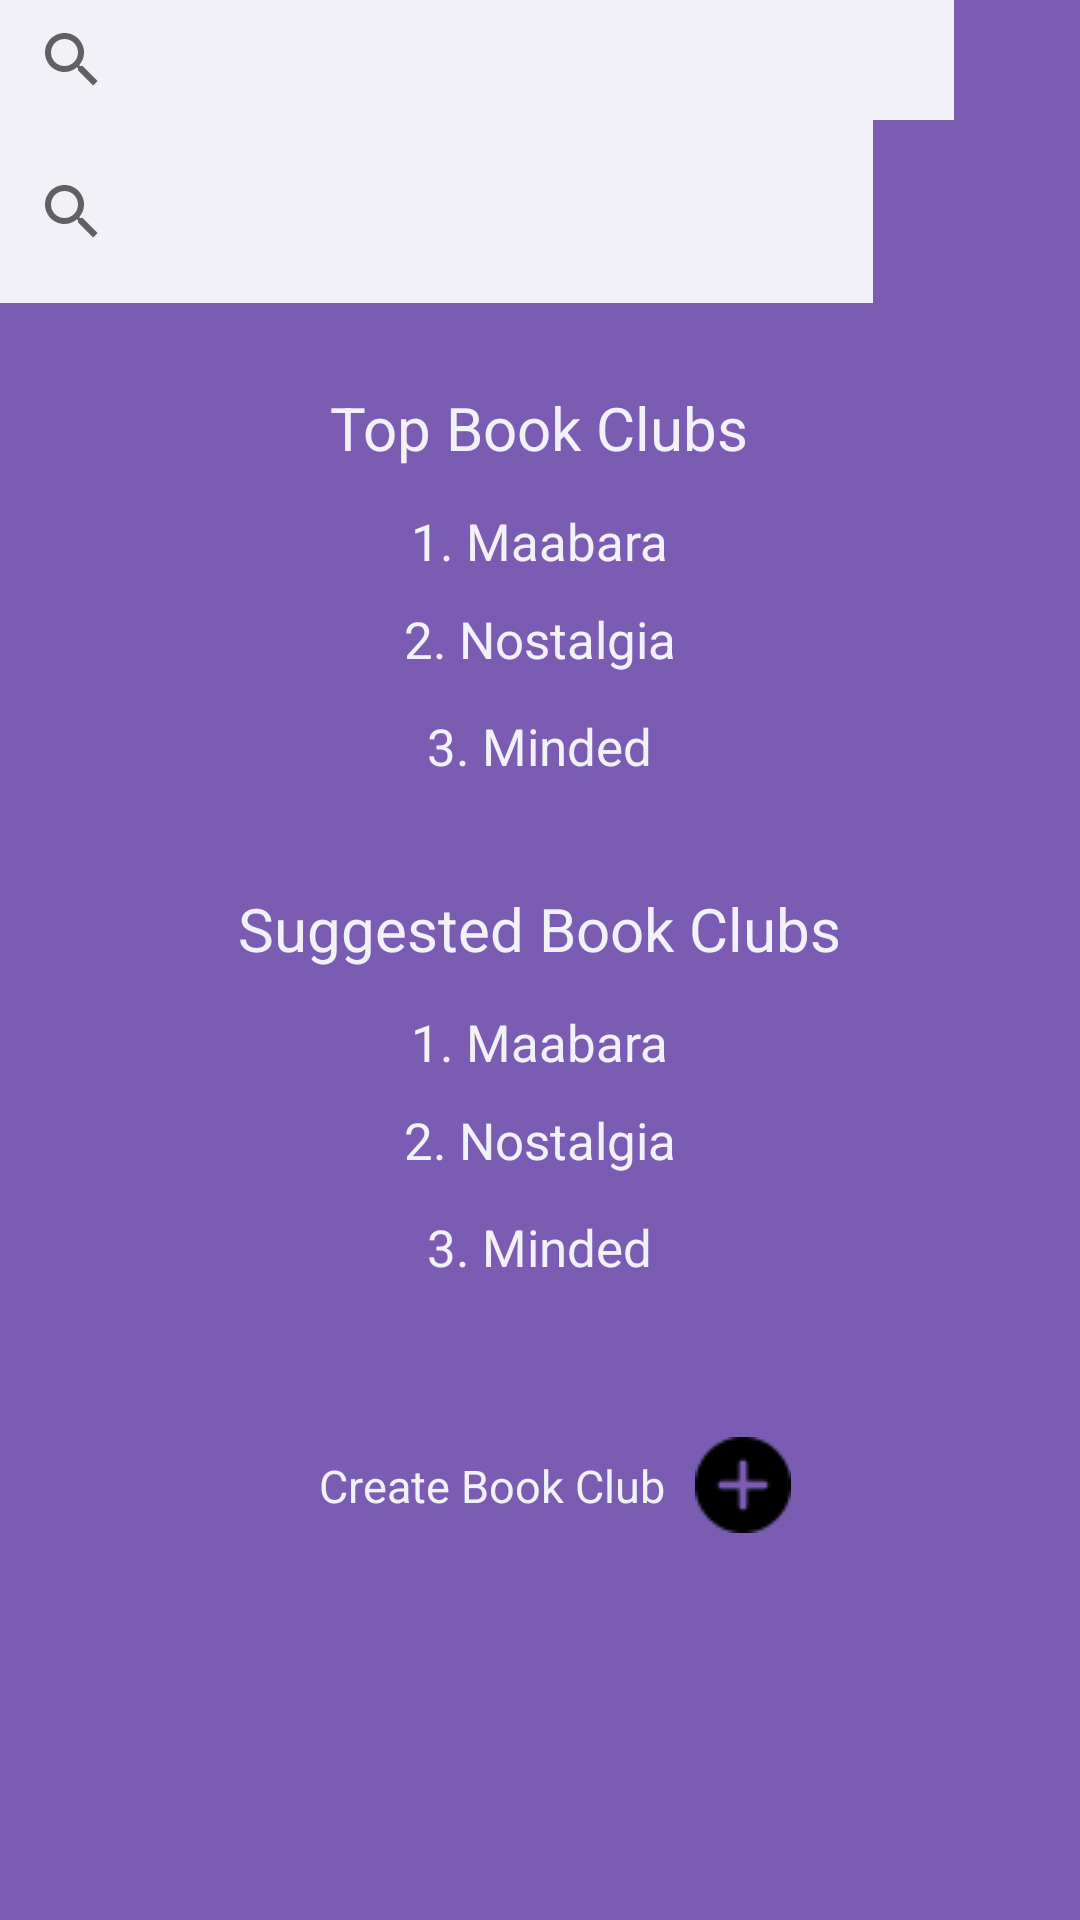

Where icons sit on this 1080*1920 app screen, as [x1,y1,x2,y2]:
adding: [695,1437,791,1533]
